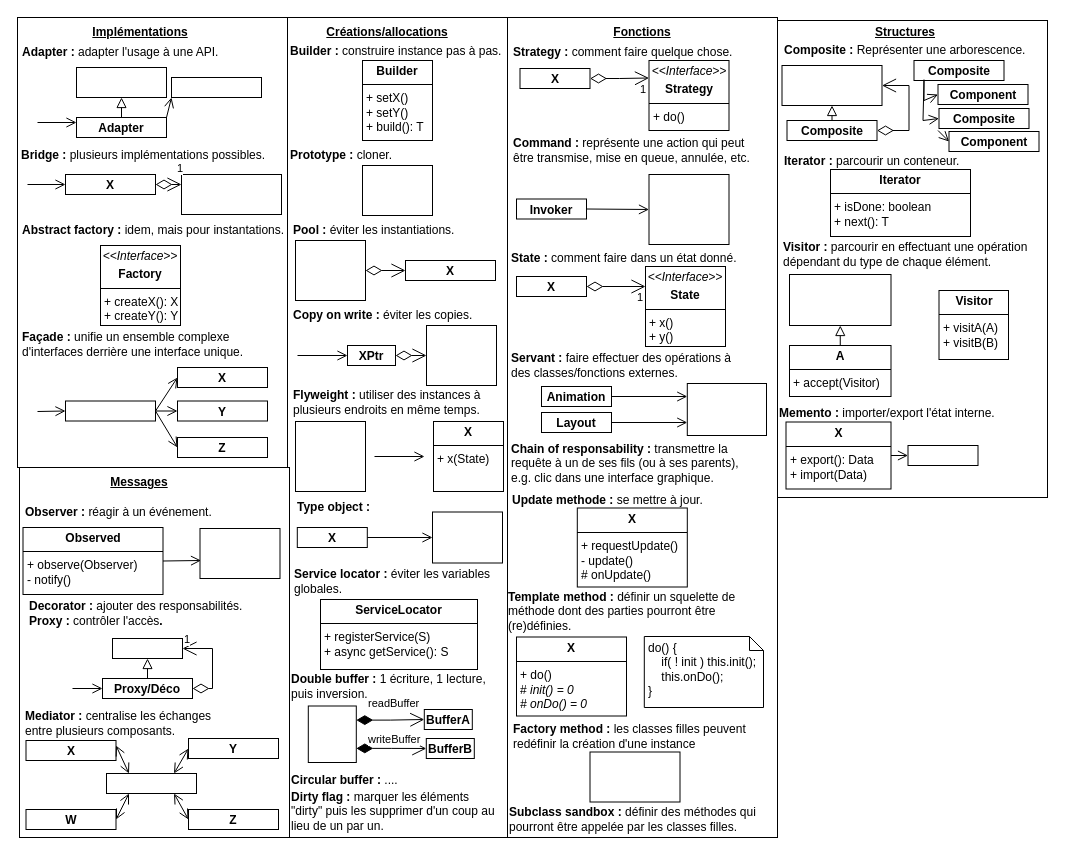
The diagram is 1065 pixels wide and 858 high, and some of its shapes have lost their labels. The shapes that lost their labels are listed below. From the top down, each one's box as (x1, y1, x2, y2) in pixels, then its label:
(76, 66, 166, 98): <<Interface>> Target API
(170, 76, 262, 98): Impl
(781, 64, 882, 106): <<Interface>> Component
(180, 174, 282, 214): <<Interface>> XImpl
(362, 164, 432, 216): X + clone(): X
(648, 174, 729, 244): <<Interface>> Command + do()
(294, 240, 366, 300): Pool + get(): X + release(X)
(788, 274, 891, 326): Element + accept(Visitor)
(426, 324, 496, 386): X + clone() + count
(64, 400, 156, 421): Façade
(686, 382, 766, 436): Movable + setPos(x,y)
(294, 420, 366, 492): X - State + x()
(907, 444, 978, 466): Data
(199, 528, 280, 578): Observer - onNotify()
(432, 511, 502, 563): XType + prop
(112, 638, 182, 658): Target
(307, 705, 356, 762): X + flip()
(106, 772, 196, 794): Mediator
(589, 751, 680, 802): X + createY():Y
